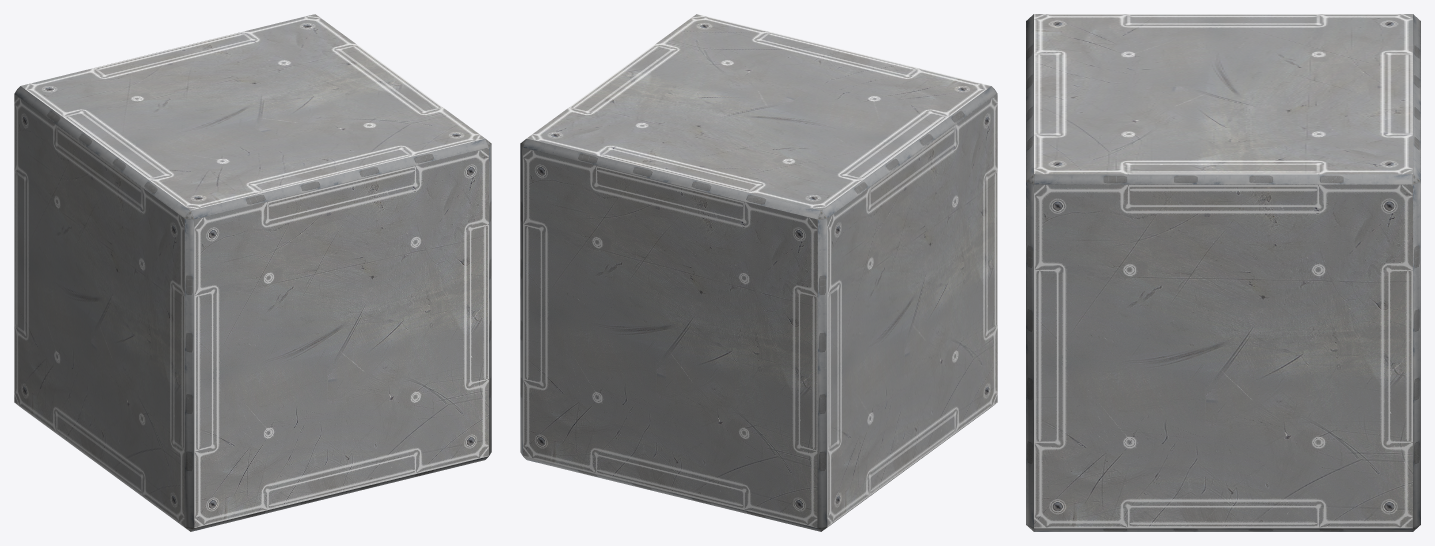
The model's file is SM_Crate1.fbx.
3 renders of one model, left to right at view 1: azimuth 30°, elevation 25°; view 2: azimuth 150°, elevation 25°; view 3: azimuth 270°, elevation 25°, orthographic. The views are drawn at different scales.
Visible parts, largest first — view 1: SM_Crate1_LOD0; view 2: SM_Crate1_LOD0; view 3: SM_Crate1_LOD0.
Part boxes in pixels (x1=…): SM_Crate1_LOD0: x1=14, y1=14, x2=491, y2=531; SM_Crate1_LOD0: x1=520, y1=14, x2=997, y2=531; SM_Crate1_LOD0: x1=1026, y1=14, x2=1420, y2=531.
Bounding box in the file's own units: 100 × 100 × 100.
2 materials, 2 textured.
